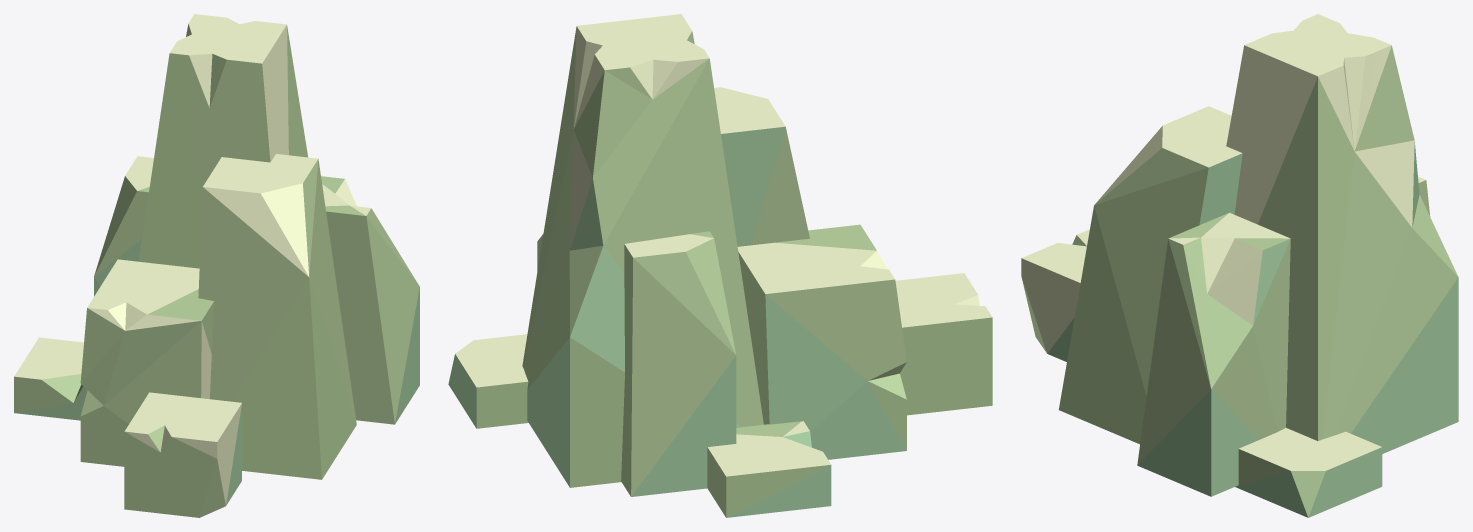
File: piedra 3 b.fbx
3 renders of one model, left to right at view 1: azimuth 30°, elevation 25°; view 2: azimuth 150°, elevation 25°; view 3: azimuth 270°, elevation 25°, orthographic. The views are drawn at different scales.
Visible parts, largest first — view 1: rock_02; view 2: rock_02; view 3: rock_02.
Part boxes in pixels (left/top/right/bottom): rock_02: left=14, top=14, right=419, bottom=517; rock_02: left=448, top=14, right=992, bottom=517; rock_02: left=1021, top=14, right=1458, bottom=517.
Size of the model in its own units: 361 by 314 by 328.
